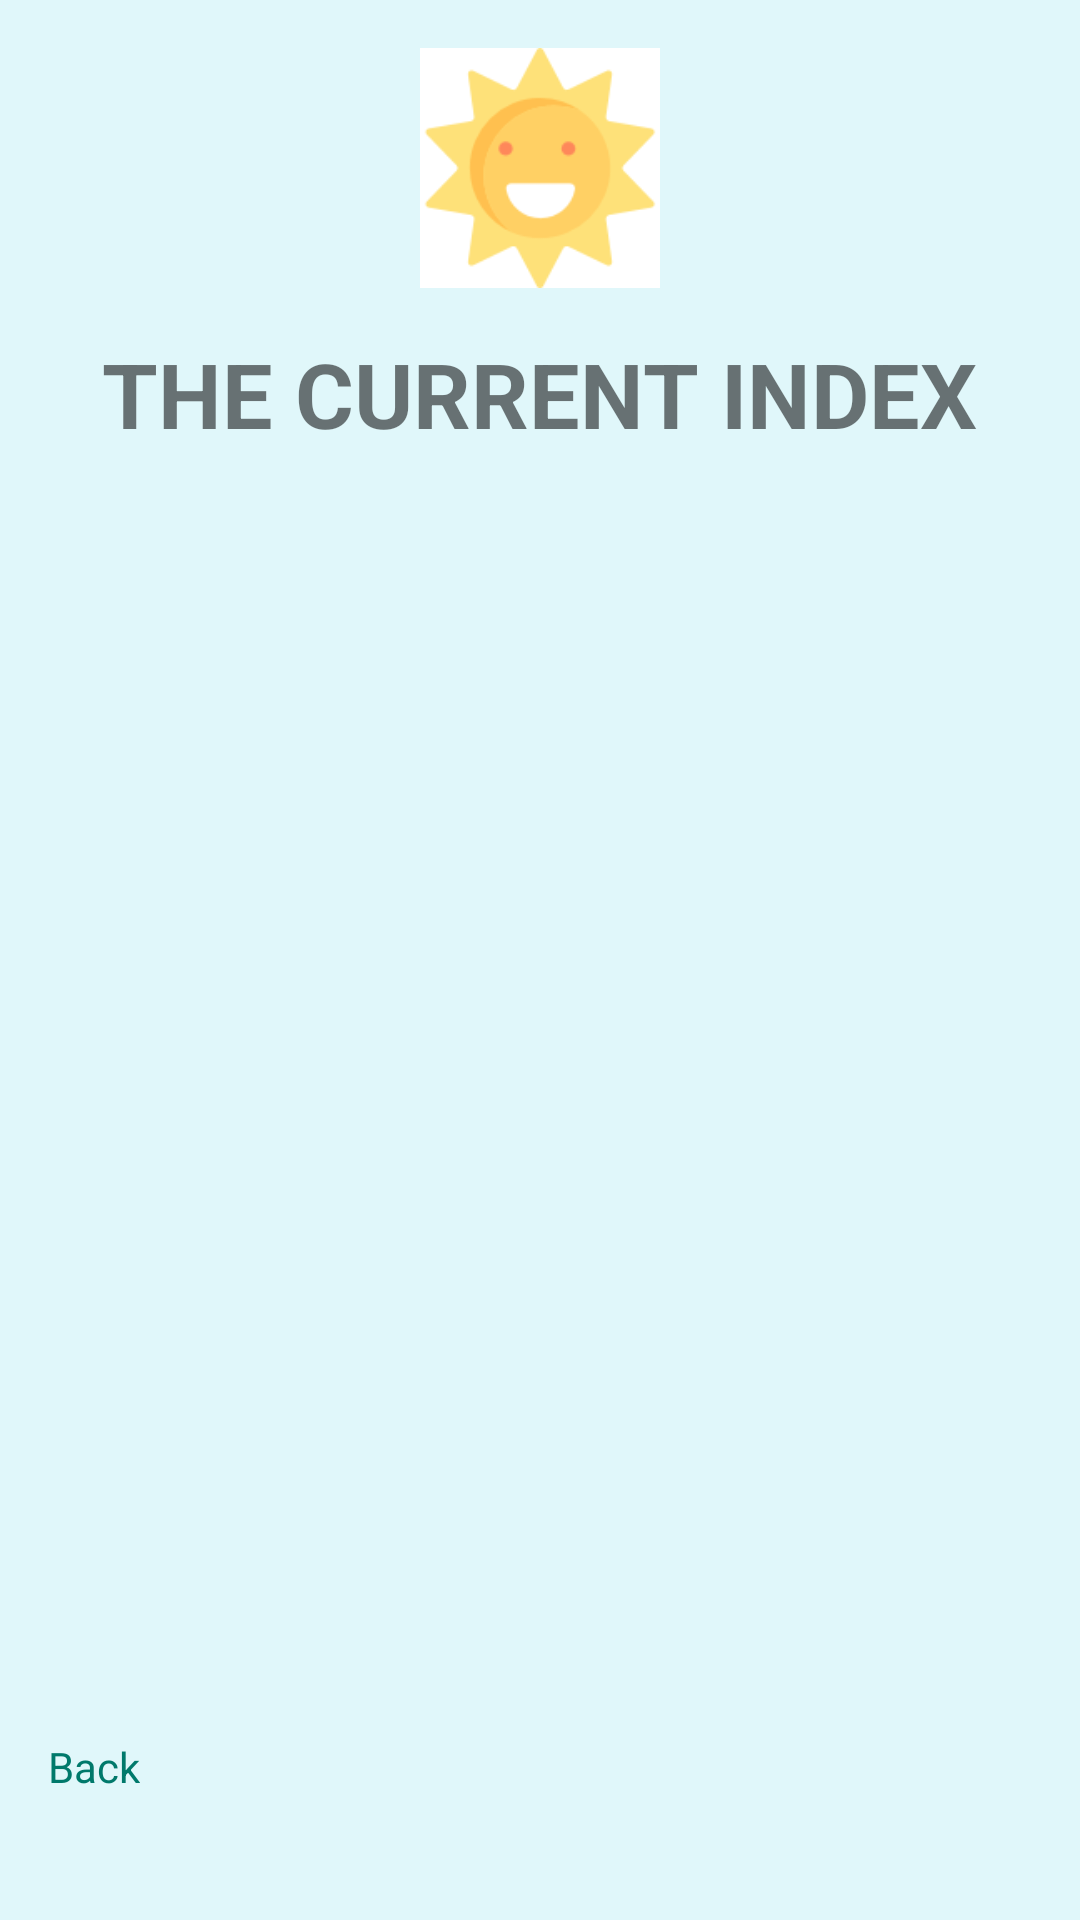

Where icons sit on this 1080 × 1920 app screen, as (x1, y1, x2, y2):
sun: (420, 48, 660, 288)
